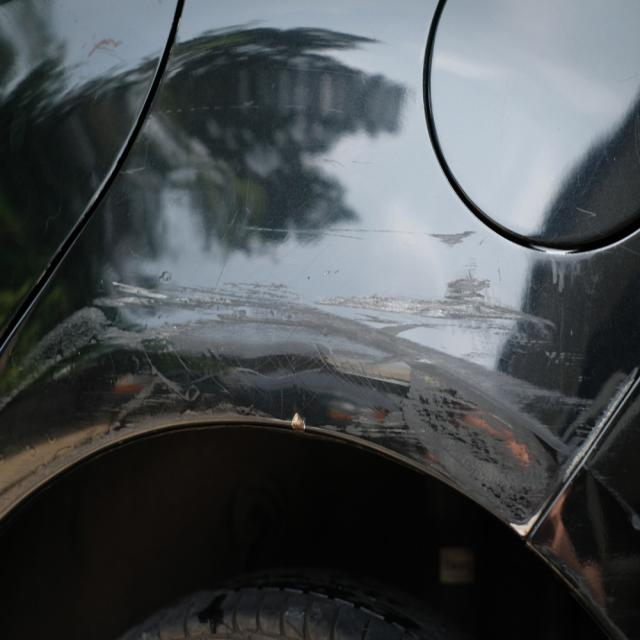scratch: (0, 225, 640, 532)
